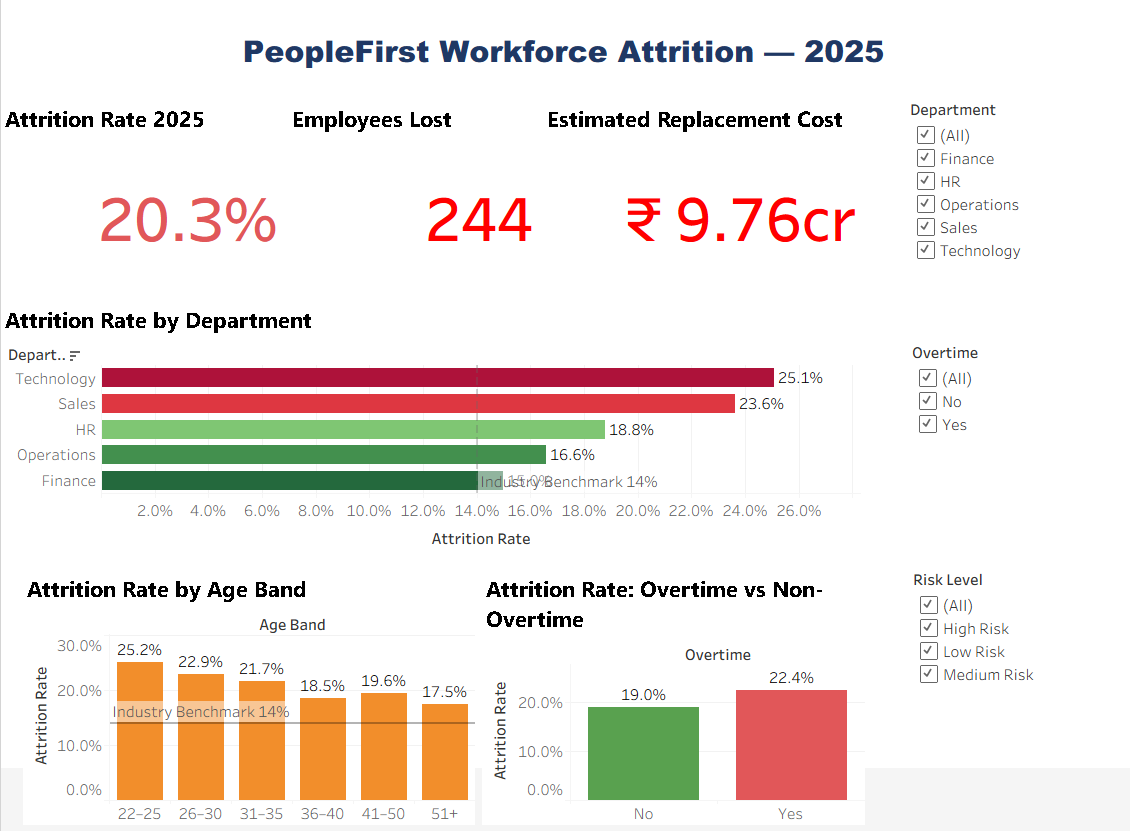

This screenshot's page, from the dashboard's own definition file:
{"tool":"tableau","page":{"name":"Dashboard 1","canvas":[1366,768],"ordinal":0},"visuals":[{"type":"text","box":[6,7,1113,86]},{"type":"worksheet","title":"Sheet 1","mark":"Text","box":[0,99,281,191]},{"type":"worksheet","title":"Sheet 2","mark":"Text","box":[287,99,249,191]},{"type":"worksheet","title":"Sheet 3","mark":"Text","box":[542,99,318,191]},{"type":"filter","title":"Sheet 4","param":"[federated.1aljstm1caedpz17l6skb1b34f2a].[none:department:nk]","box":[909,99,210,192]},{"type":"worksheet","title":"Sheet 4","mark":"Bar","rows":["department"],"cols":["Calculation_1087704053719041"],"box":[0,300,860,256]},{"type":"filter","title":"Sheet 7","param":"[federated.1aljstm1caedpz17l6skb1b34f2a].[none:overtime:nk]","box":[911,342,211,149]},{"type":"filter","title":"Sheet 1","param":"[federated.1aljstm1caedpz17l6skb1b34f2a].[none:Calculation_1087704054685702:nk]","box":[912,569,214,181]}]}

Visuals, with their boxes on the page's 1366x768 design canvas (x1, y1, x2, y2). These are canvas units, not pixel positions in the 1130x831 screenshot, which may show the page scaled, cropped or inside an application window:
text: [6,7,1119,93]
"Sheet 1" worksheet (Text marks): [0,99,281,290]
"Sheet 2" worksheet (Text marks): [287,99,536,290]
"Sheet 3" worksheet (Text marks): [542,99,860,290]
"Sheet 4" filter: [909,99,1119,291]
"Sheet 4" worksheet (Bar marks): [0,300,860,556]
"Sheet 7" filter: [911,342,1122,491]
"Sheet 1" filter: [912,569,1126,750]
